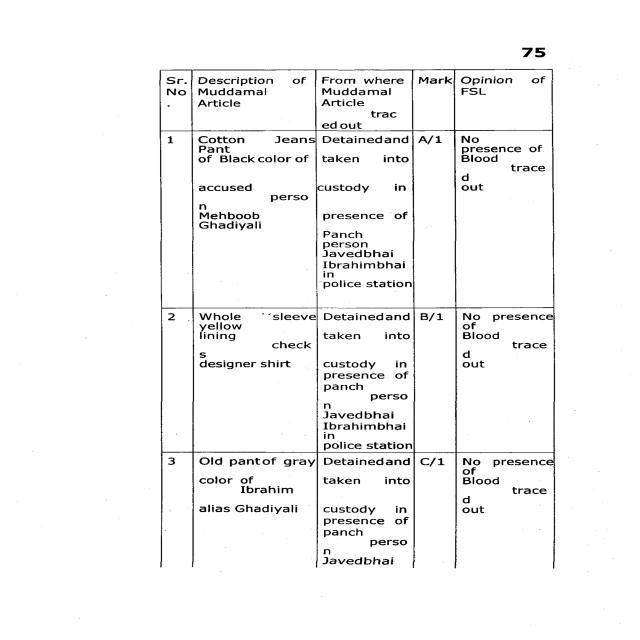page-number: (437, 1, 640, 62)
